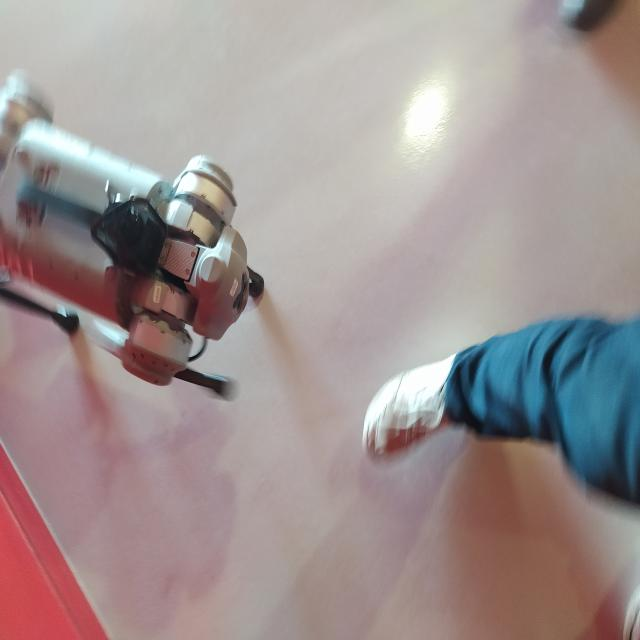unitree-go1-robot: (0, 74, 277, 416)
